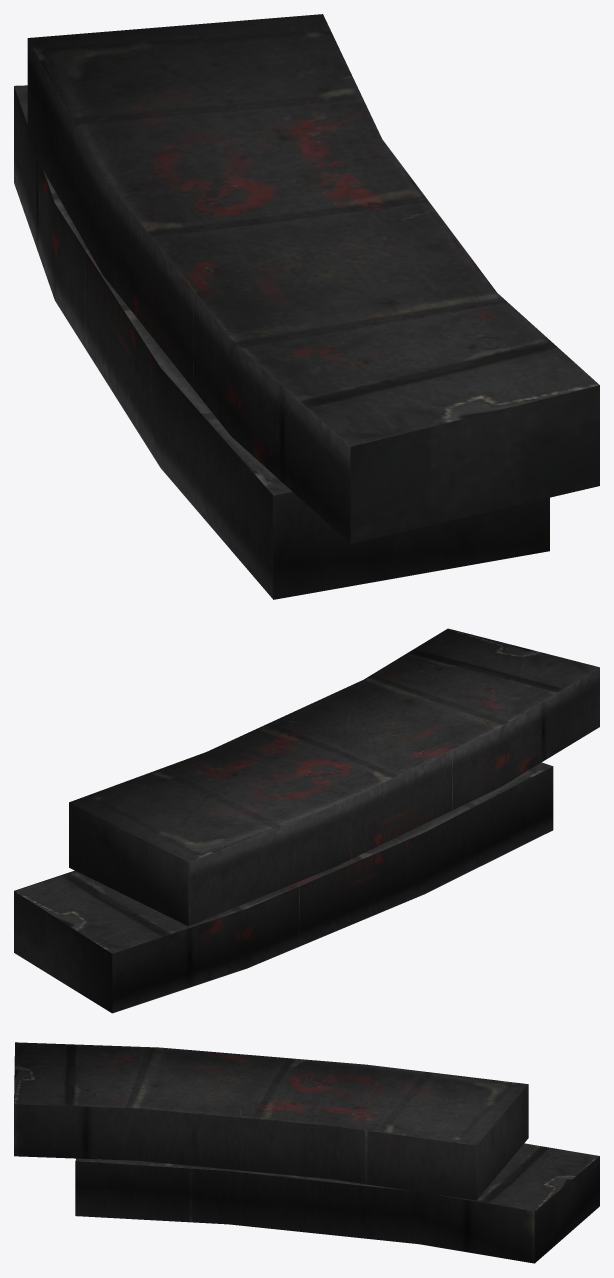
The model's file is t6_attach_fastmag_saiga_world_LOD1.obj.
The picture shows the model from 3 angles, top to bottom: view 1: azimuth 30°, elevation 25°; view 2: azimuth 150°, elevation 25°; view 3: azimuth 270°, elevation 25°; orthographic projection. The views are drawn at different scales.
Parts seen in each view (by area): view 1: mtl_t6_wpn_shotty_saiga; view 2: mtl_t6_wpn_shotty_saiga; view 3: mtl_t6_wpn_shotty_saiga.
Boxes of the visible parts, box(x1,y1,x2,y2) form: mtl_t6_wpn_shotty_saiga: box(14, 14, 599, 599); mtl_t6_wpn_shotty_saiga: box(14, 628, 599, 1013); mtl_t6_wpn_shotty_saiga: box(14, 1042, 599, 1263).
Bounding box in the file's own units: 12.96 × 5.87 × 28.12.
